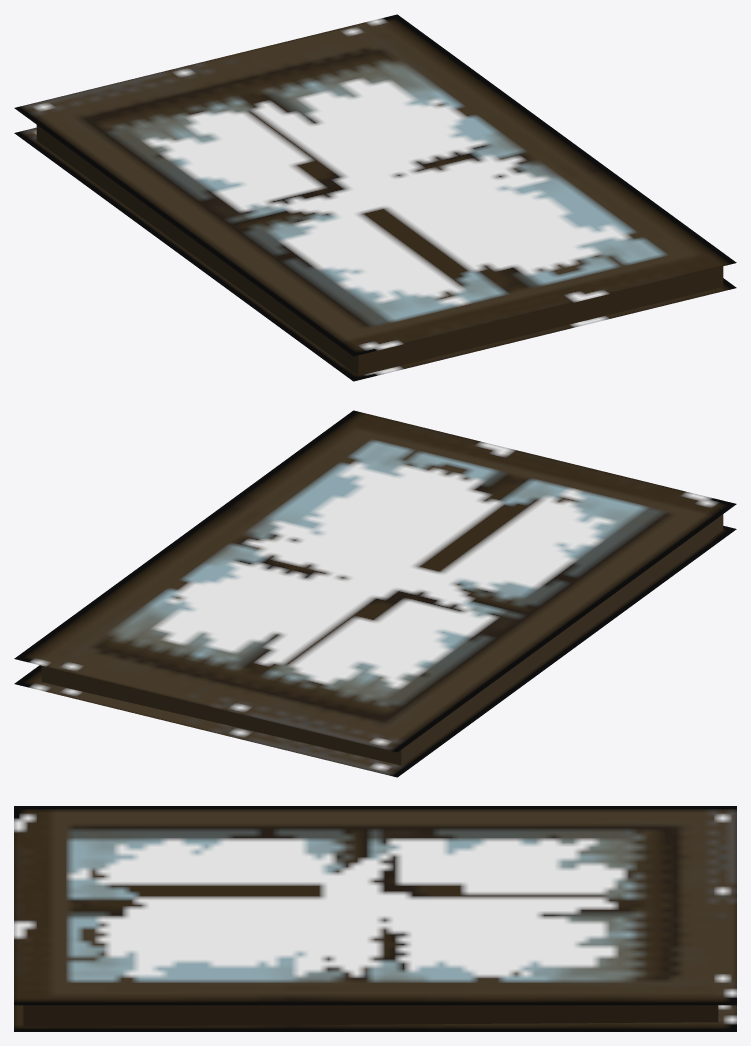
File: pz_native_fixtures_windows_01_5_frame.obj
The picture shows the model from 3 angles, top to bottom: view 1: azimuth 30°, elevation 25°; view 2: azimuth 150°, elevation 25°; view 3: azimuth 270°, elevation 25°; orthographic projection. The views are drawn at different scales.
Visible parts, largest first — view 1: pz_native_fixtures_windows_01_5_frame; view 2: pz_native_fixtures_windows_01_5_frame; view 3: pz_native_fixtures_windows_01_5_frame.
Boxes of the visible parts, x1,y1,x2,y2 form: pz_native_fixtures_windows_01_5_frame: (14,14,736,381); pz_native_fixtures_windows_01_5_frame: (14,410,736,777); pz_native_fixtures_windows_01_5_frame: (14,806,736,1031).
Bounding box in the file's own units: 0.6406 × 0.04 × 0.9823.
Materials: 1 (1 with a texture image).
